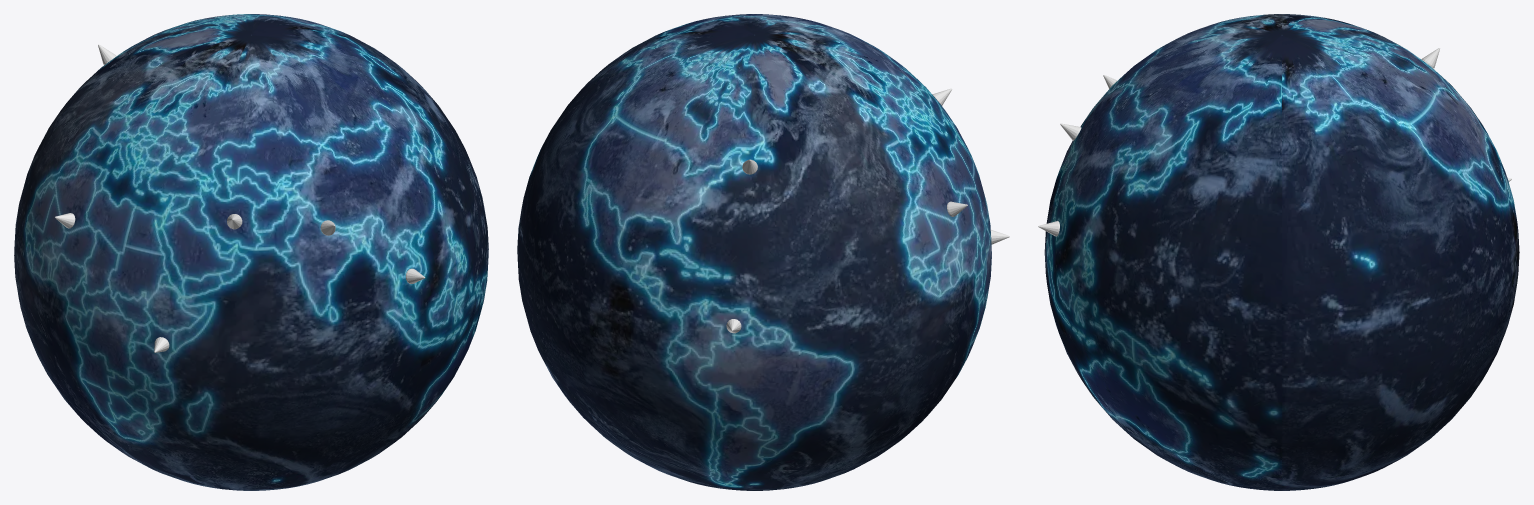
File: Earth_0715-transformed.glb
3 renders of one model, left to right at view 1: azimuth 30°, elevation 25°; view 2: azimuth 150°, elevation 25°; view 3: azimuth 270°, elevation 25°, orthographic.
Parts seen in each view (by area): view 1: Globe; view 2: Globe; view 3: Globe.
Part boxes in pixels (bbox=[...]): Globe: bbox=[14, 14, 488, 490]; Globe: bbox=[517, 14, 991, 490]; Globe: bbox=[1044, 14, 1519, 490].
Size of the model in its own units: 1.97 by 2 by 2.
1 material, 1 textured.
